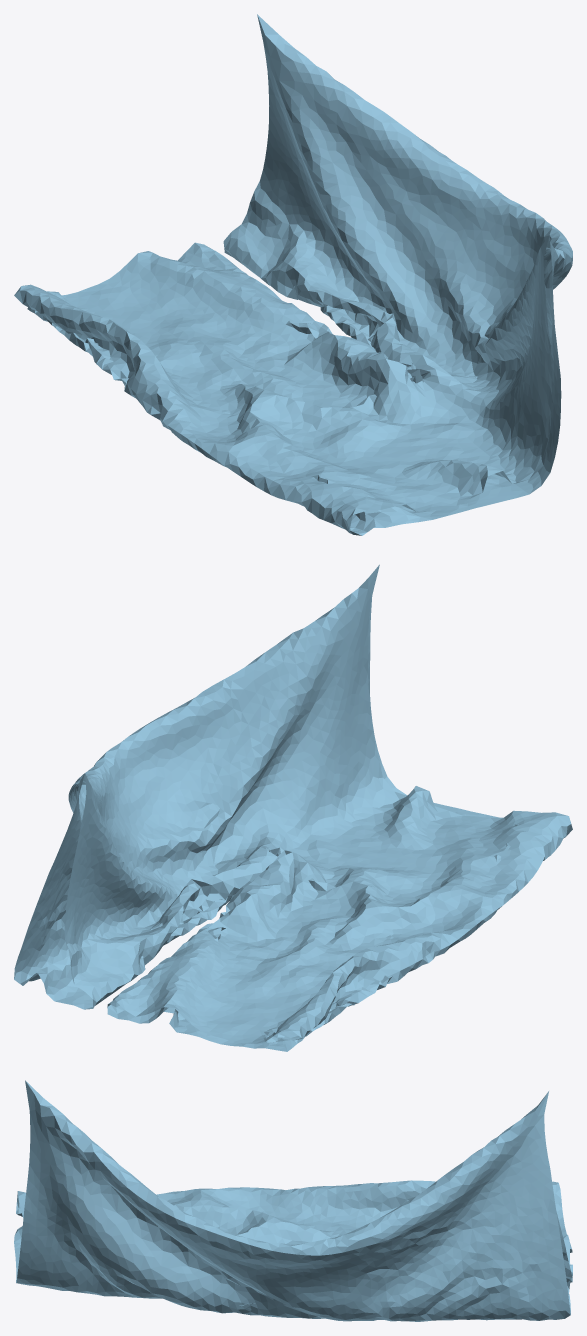
The model's file is frame_10.glb.
The picture shows the model from 3 angles, top to bottom: view 1: azimuth 30°, elevation 25°; view 2: azimuth 150°, elevation 25°; view 3: azimuth 270°, elevation 25°; orthographic projection. The views are drawn at different scales.
Parts seen in each view (by area): view 1: frame_10.obj; view 2: frame_10.obj; view 3: frame_10.obj.
Boxes of the visible parts, bbox=[...] form: frame_10.obj: bbox=[14, 14, 572, 535]; frame_10.obj: bbox=[14, 564, 572, 1051]; frame_10.obj: bbox=[14, 1080, 572, 1321].
Size of the model in its own units: 1.07 by 0.6922 by 1.6.
